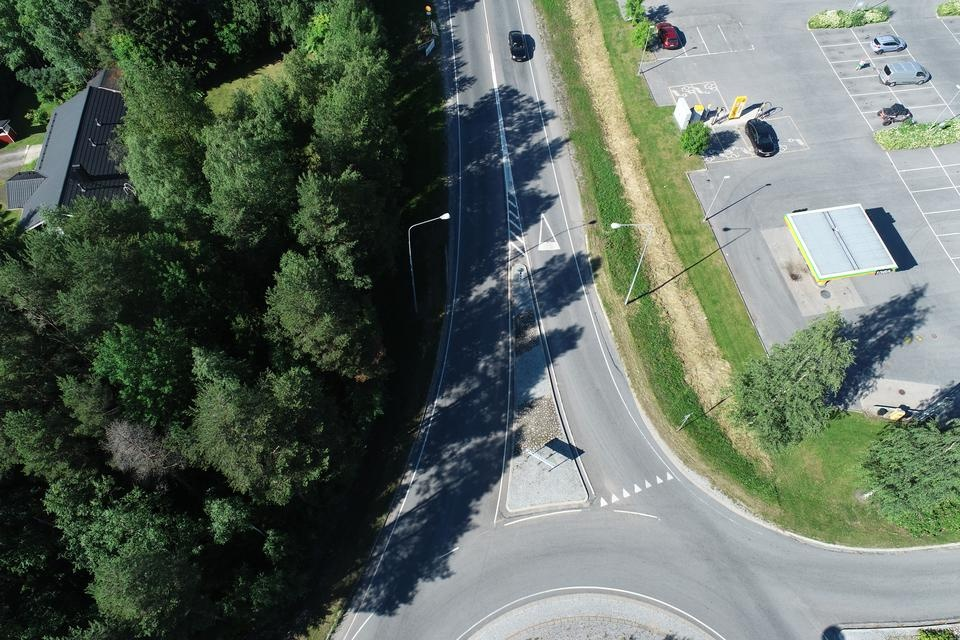roundabout: (293, 461, 834, 640)
